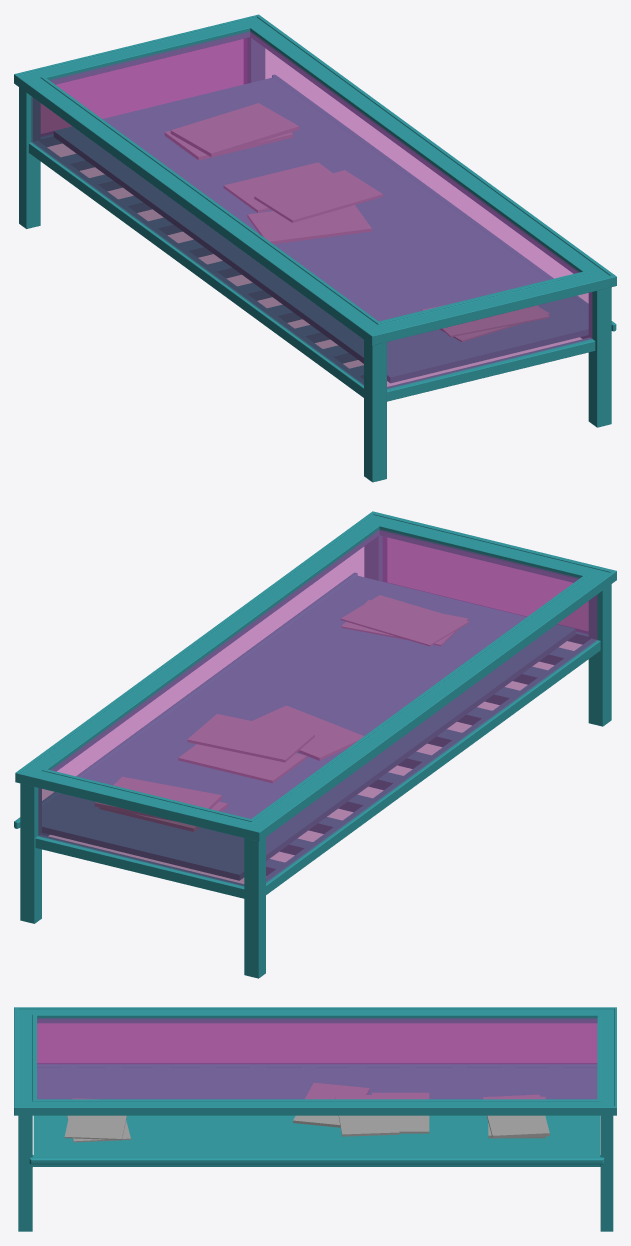
Rendered from table.fbx.
3 views of the same model, one above another, from view 1: azimuth 30°, elevation 25°; view 2: azimuth 150°, elevation 25°; view 3: azimuth 270°, elevation 25° (orthographic). The views are drawn at different scales.
Parts seen in each view (by area): view 1: glass_table, book; view 2: glass_table, book; view 3: glass_table, book.
Boxes of the visible parts, <box> form: glass_table: <box>14,14,616,482</box>; book: <box>165,103,549,341</box>; glass_table: <box>14,511,616,978</box>; book: <box>95,595,468,831</box>; glass_table: <box>14,1007,616,1231</box>; book: <box>64,1083,549,1142</box>.
Size of the model in its own units: 3.34 by 1.87 by 8.15.
